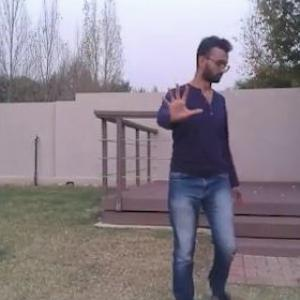follow_hand: (156, 74, 204, 121)
